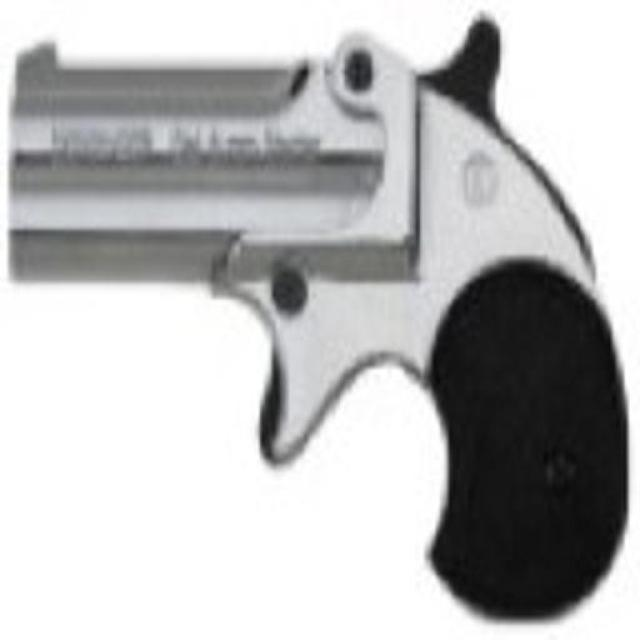pistol: (11, 15, 620, 617)
